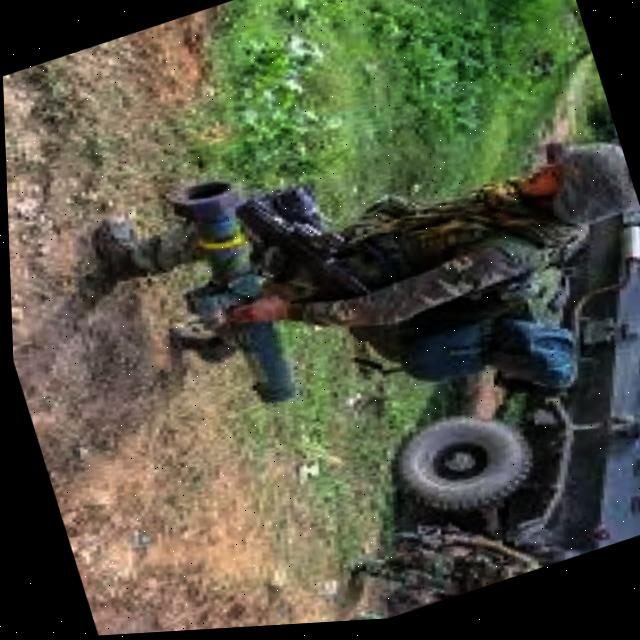rocket: (111, 142, 357, 447)
